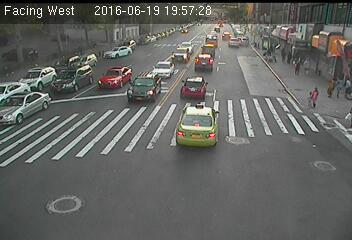neg: (78, 75, 105, 111), (214, 35, 237, 66), (236, 63, 258, 92), (35, 95, 52, 117), (156, 56, 171, 76), (187, 46, 202, 66)
pos: (308, 85, 326, 110), (302, 54, 318, 76), (322, 76, 338, 97), (288, 59, 303, 78), (276, 44, 288, 61)
